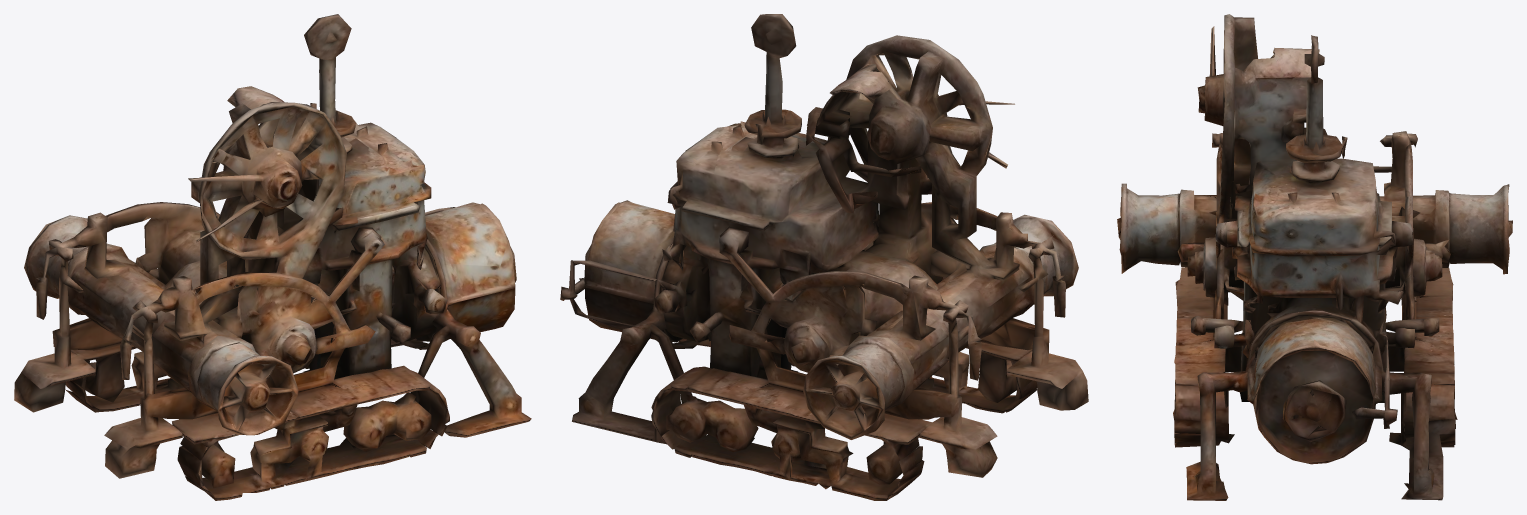
The model's file is industrial_machine_b.glb.
3 renders of one model, left to right at view 1: azimuth 30°, elevation 25°; view 2: azimuth 150°, elevation 25°; view 3: azimuth 270°, elevation 25°, orthographic.
Parts seen in each view (by area): view 1: industrial_machine_b / mesh; view 2: industrial_machine_b / mesh; view 3: industrial_machine_b / mesh.
Part boxes in pixels (box(x1,y1,x2,y2)): industrial_machine_b / mesh: box(14, 14, 531, 500); industrial_machine_b / mesh: box(560, 14, 1088, 500); industrial_machine_b / mesh: box(1117, 14, 1512, 500).
Size of the model in its own units: 2.5 by 2.15 by 1.95.
Materials: 1 (1 with a texture image).
